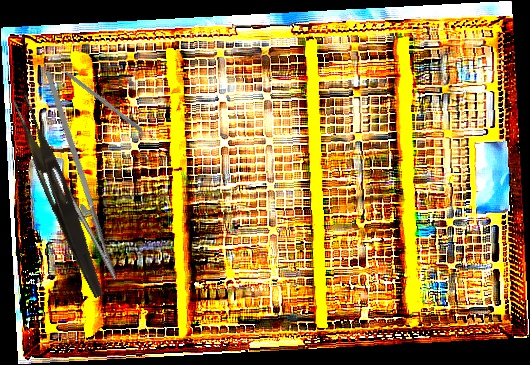Dressing Forceps: (4, 94, 115, 300)
Needle Holder: (5, 69, 143, 288)
Pusher: (49, 57, 144, 133)
